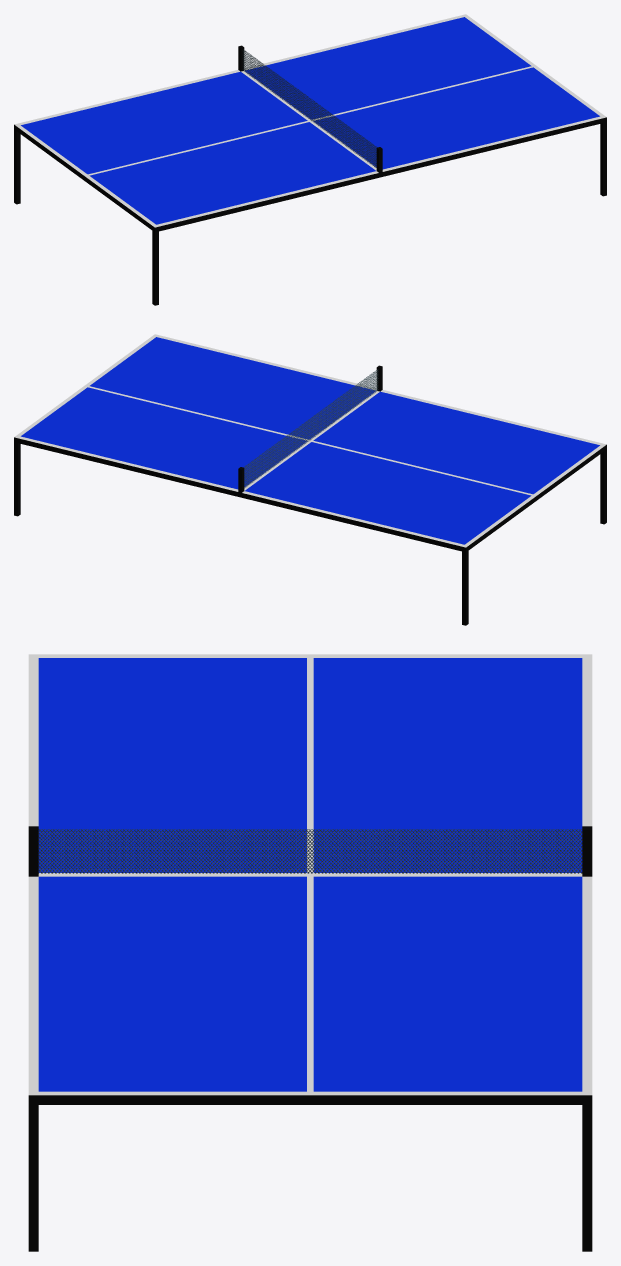
Rendered from pingpong_table.glb.
3 renders of one model, top to bottom at view 1: azimuth 30°, elevation 25°; view 2: azimuth 150°, elevation 25°; view 3: azimuth 270°, elevation 25°, orthographic. The views are drawn at different scales.
Visible parts, largest first — view 1: pingpong_table; view 2: pingpong_table; view 3: pingpong_table.
Boxes of the visible parts, bbox=[...] form: pingpong_table: bbox=[14, 14, 606, 305]; pingpong_table: bbox=[14, 334, 606, 625]; pingpong_table: bbox=[28, 654, 592, 1251].
Bounding box in the file's own units: 12.1 × 2.6 × 6.54.
4 materials, 1 textured.
